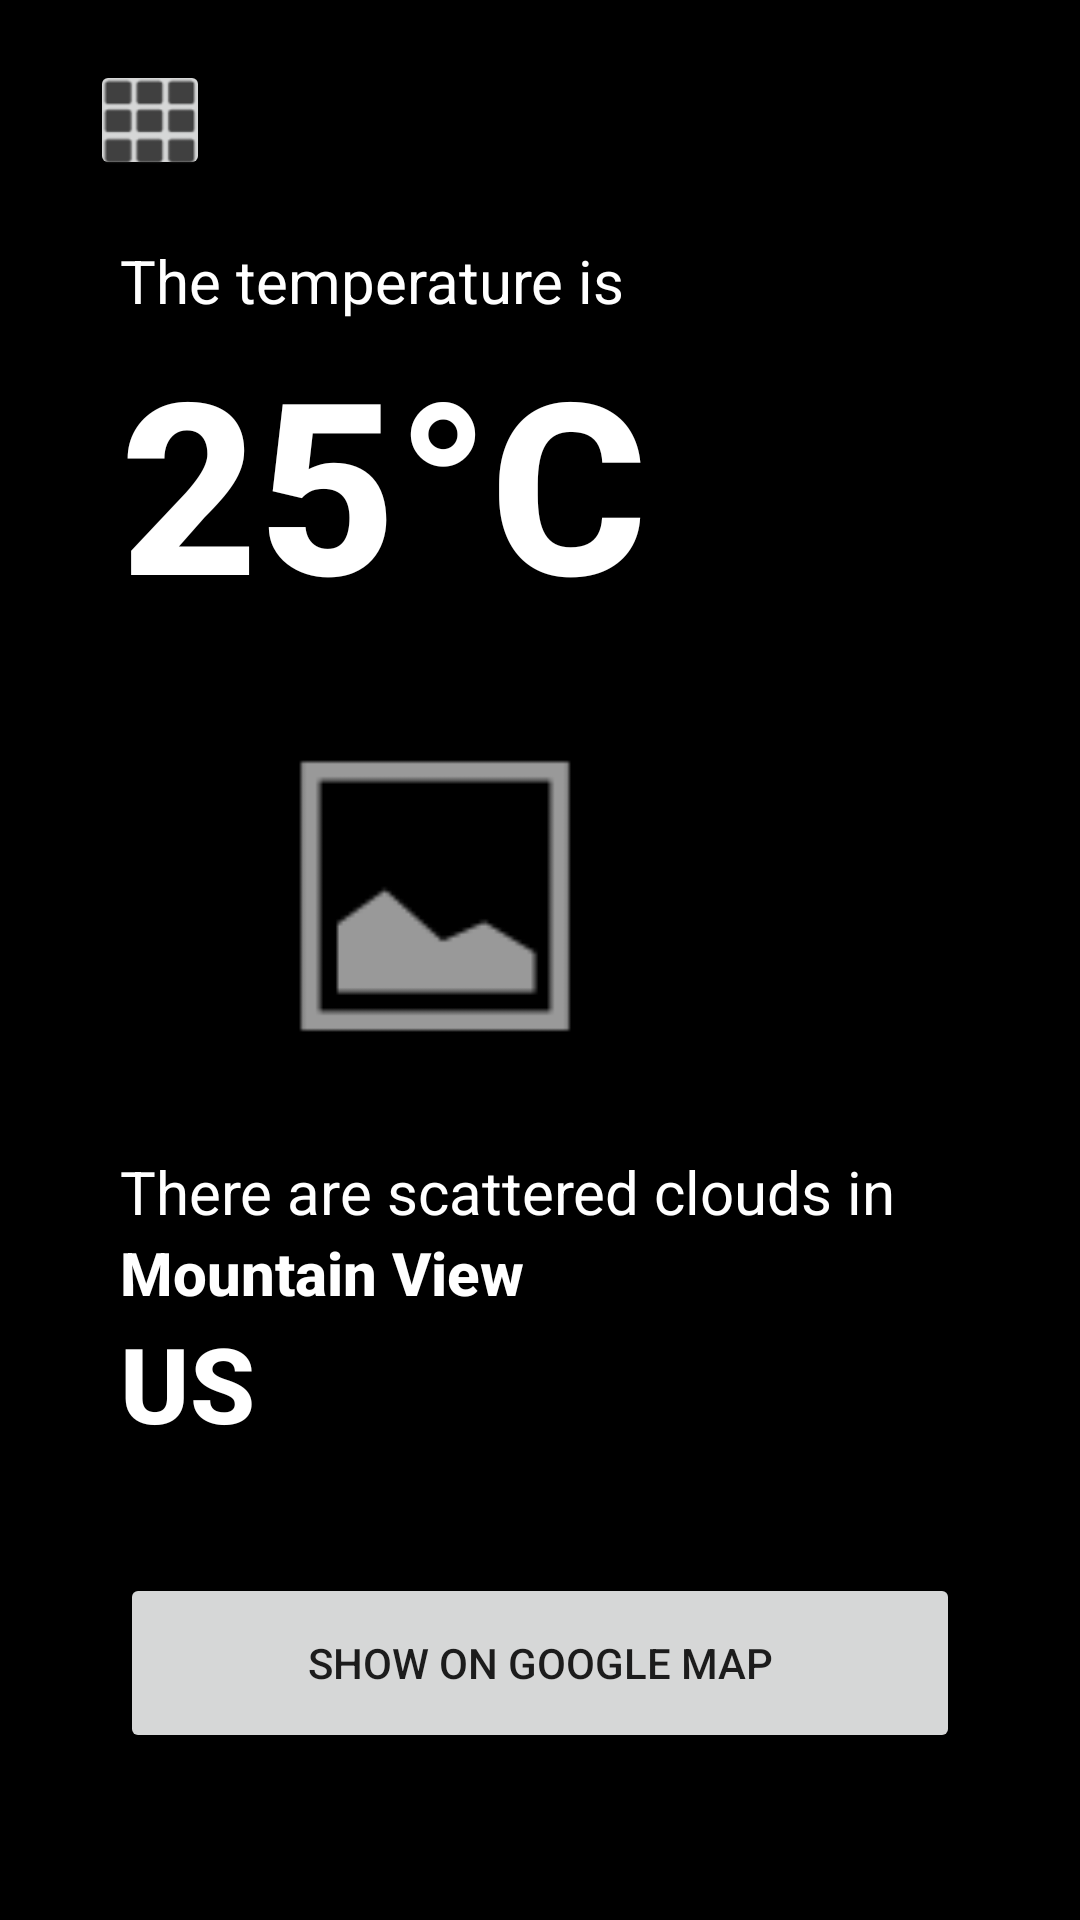

Where to tap for icons on this 1080px x 1920px app screen, as point (x, y):
dialer: point (150, 120)
gallery: point (435, 896)
